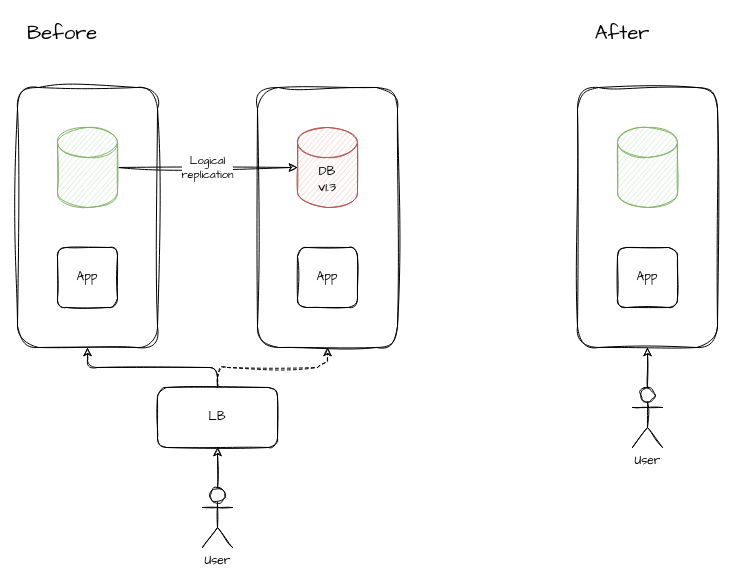
Image size: 735x585. Some labels were removed from this diagram. Here are the shapes that lost their labels. From the top down, the box of each, then its label:
(56, 126, 118, 208): DB v.1.2
(616, 126, 678, 208): DB v.1.3
(16, 86, 158, 348): Blue
(256, 86, 398, 348): Green
